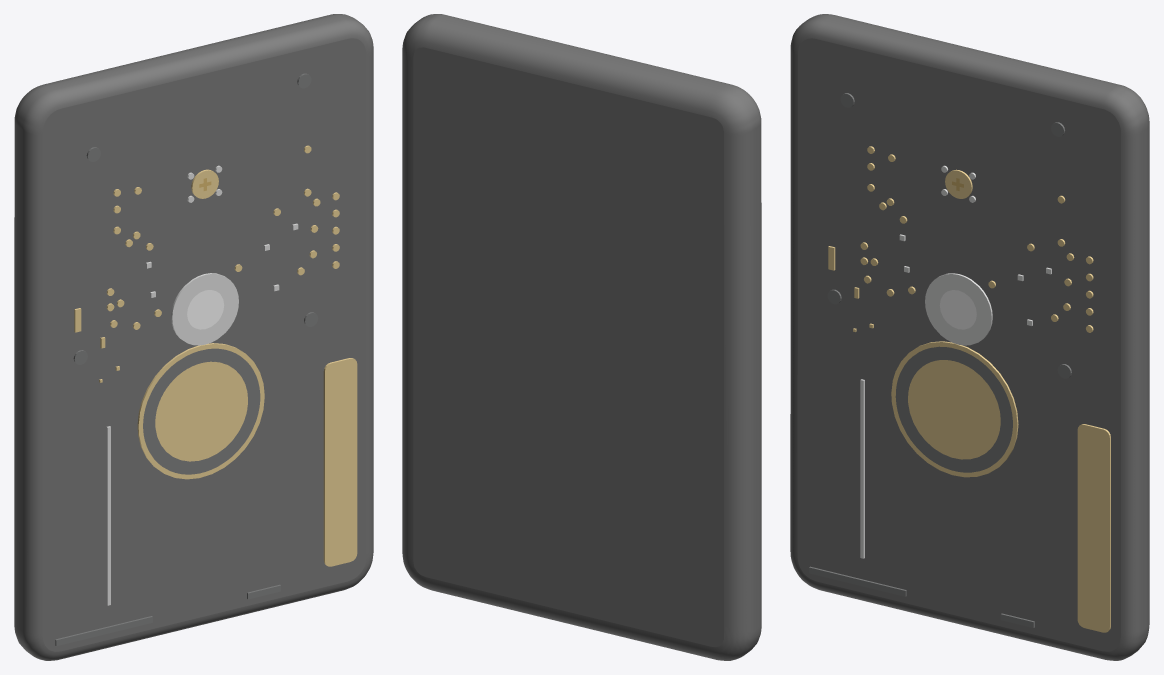
File: tracker-t1000-e.glb
3 renders of one model, left to right at view 1: azimuth 30°, elevation 25°; view 2: azimuth 150°, elevation 25°; view 3: azimuth 330°, elevation 25°, orthographic.
Visible parts, largest first — view 1: Body, Face_dfac52, Face_373838, Face_cbcccb, Face_ffffff; view 2: Body; view 3: Body, Face_dfac52, Face_373838, Face_cbcccb, Face_ffffff.
Part boxes in pixels (left/top/right/bottom): Body: left=14, top=14, right=373, bottom=660; Face_dfac52: left=74, top=145, right=357, bottom=566; Face_373838: left=55, top=73, right=317, bottom=645; Face_cbcccb: left=106, top=165, right=298, bottom=605; Face_ffffff: left=187, top=290, right=224, bottom=329; Body: left=402, top=14, right=761, bottom=660; Body: left=790, top=14, right=1149, bottom=660; Face_dfac52: left=828, top=146, right=1110, bottom=632; Face_373838: left=809, top=93, right=1071, bottom=627; Face_cbcccb: left=860, top=165, right=1051, bottom=558; Face_ffffff: left=939, top=290, right=976, bottom=329.
Bounding box in the file's own units: 0.055 × 0.0858 × 0.0068.
